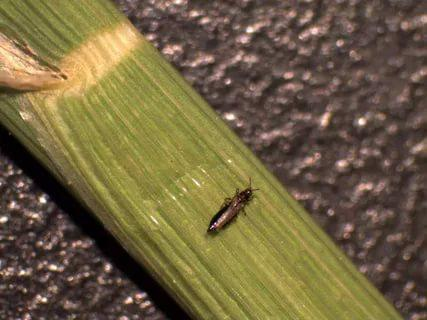tiny_pests: (191, 154, 273, 252)
